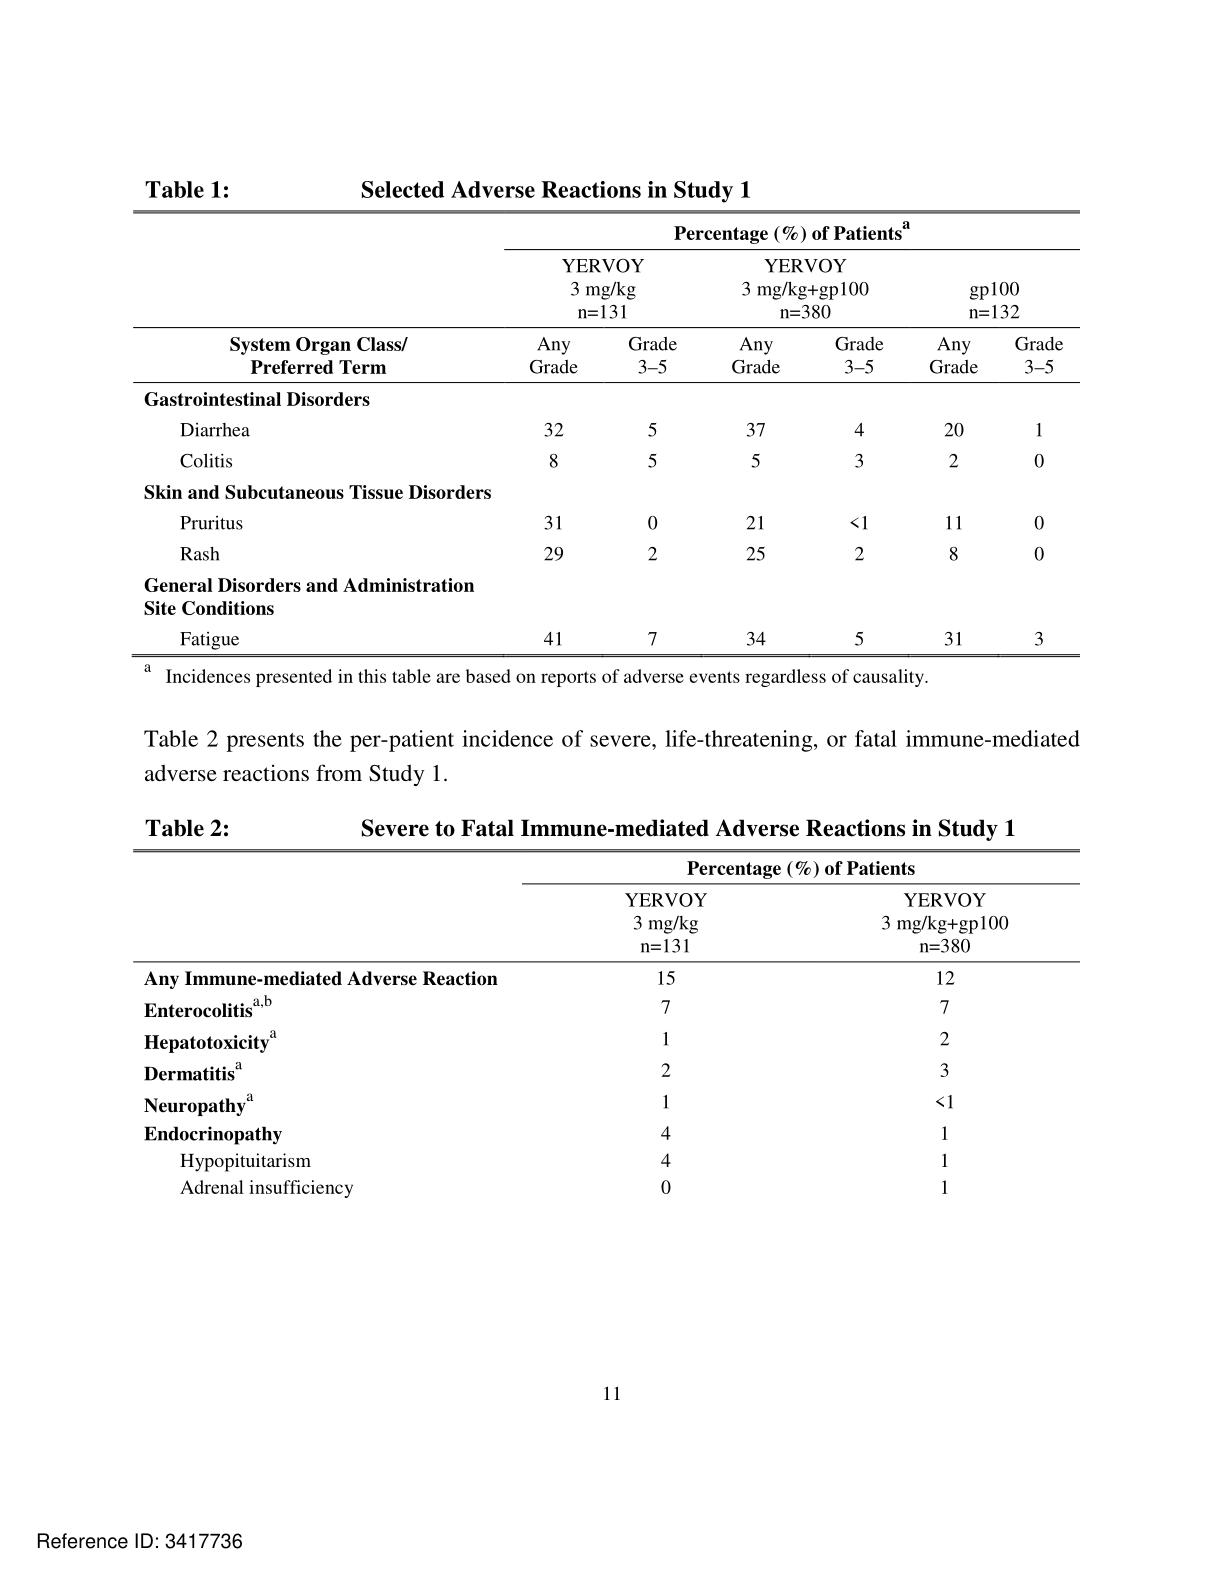partial_lined_merged_cells: (130, 210, 1080, 658), (132, 847, 1083, 1200)
